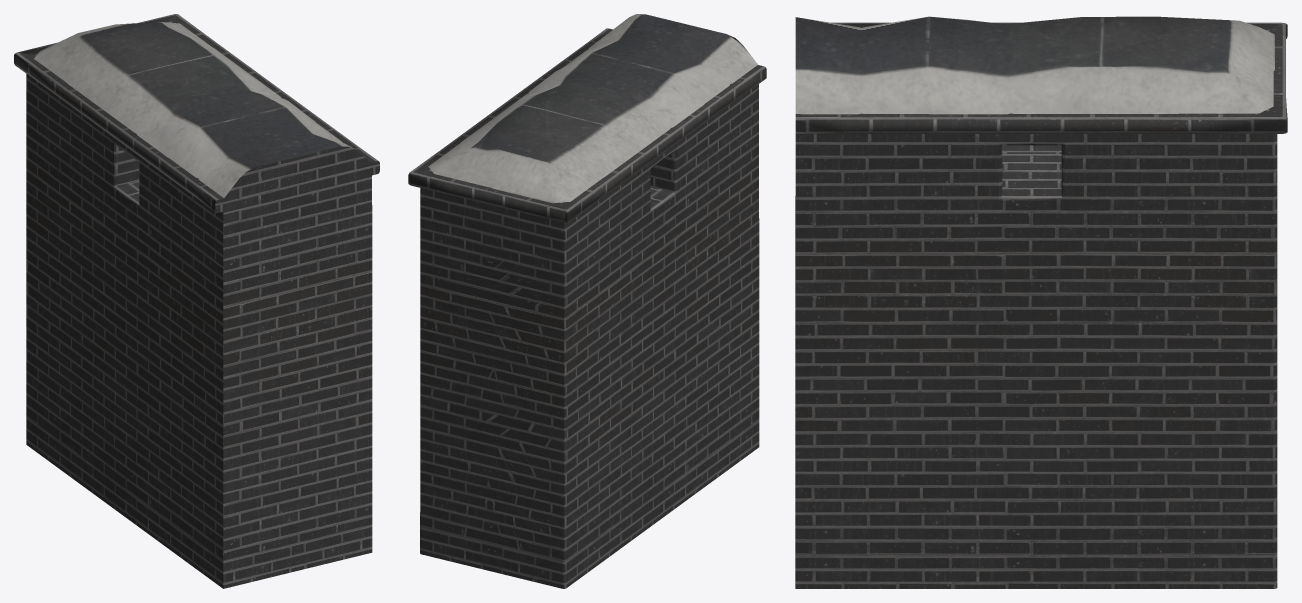
Rendered from SM_GH_Parapet_002.fbx.
The picture shows the model from 3 angles, left to right: view 1: azimuth 30°, elevation 25°; view 2: azimuth 150°, elevation 25°; view 3: azimuth 270°, elevation 25°; orthographic projection. The views are drawn at different scales.
Visible parts, largest first — view 1: SM_GH_Parapet_002; view 2: SM_GH_Parapet_002; view 3: SM_GH_Parapet_002.
Part boxes in pixels (x1,y1,x2,y2): SM_GH_Parapet_002: [14, 14, 379, 588]; SM_GH_Parapet_002: [408, 14, 766, 588]; SM_GH_Parapet_002: [795, 16, 1287, 588].
Bounding box in the file's own units: 118 × 251 × 283.
Materials: 2 (2 with a texture image).
